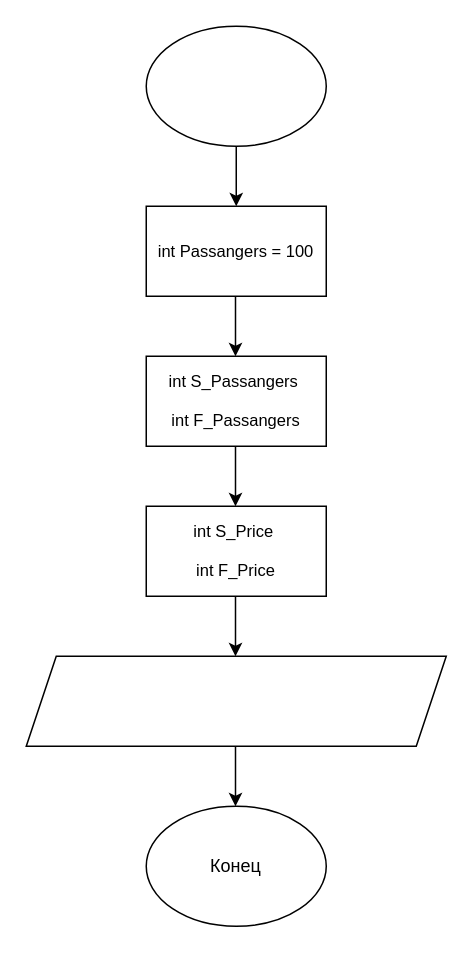
Image size: 473x953. Some labels were removed from this diagram. Each missing label, with the centre of its shape:
S_Passangers * S_Price + F_Passangers * F_Price: the point at 235,700
Начало: the point at 235,85
